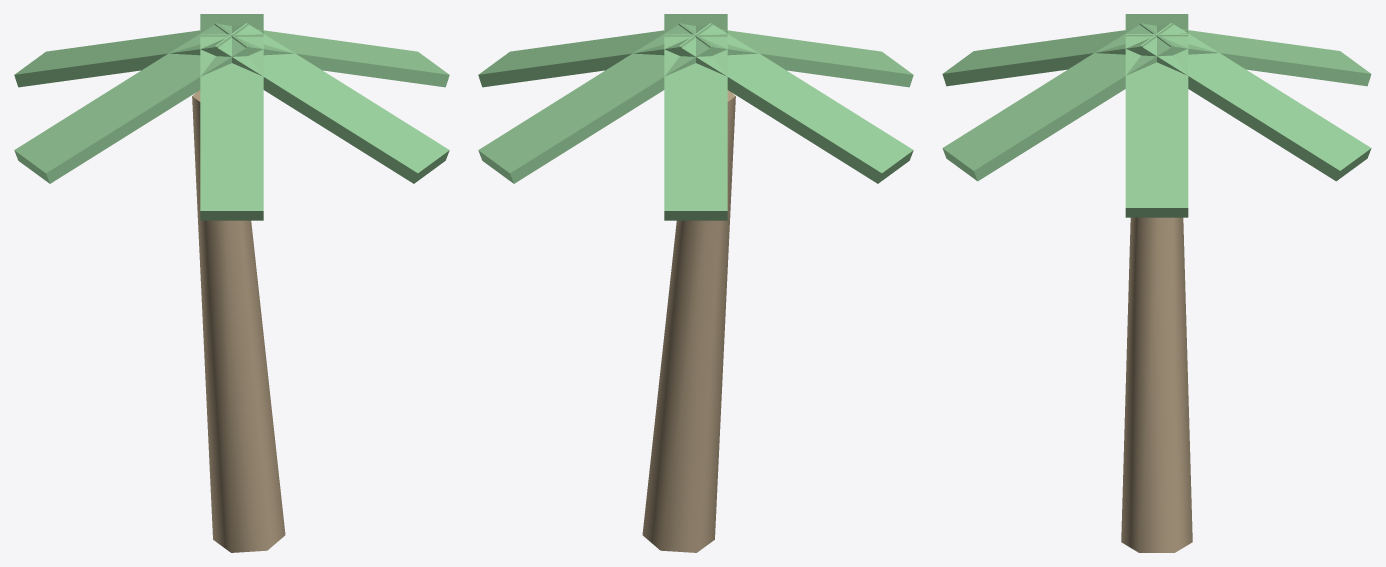
The model's file is tree_palm.glb.
The picture shows the model from 3 angles, left to right: view 1: azimuth 30°, elevation 25°; view 2: azimuth 150°, elevation 25°; view 3: azimuth 270°, elevation 25°; orthographic projection.
Parts seen in each view (by area): view 1: tree_palm; view 2: tree_palm; view 3: tree_palm.
Part boxes in pixels (<box>): tree_palm: <box>14,14,449,552</box>; tree_palm: <box>478,14,913,552</box>; tree_palm: <box>942,14,1371,552</box>.
Bounding box in the file's own units: 2.05 × 2.47 × 1.92.
